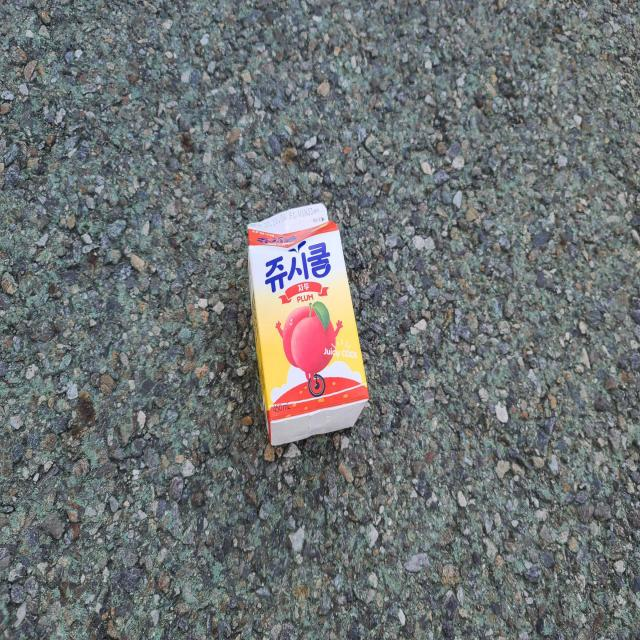paperpack: (248, 203, 369, 446)
